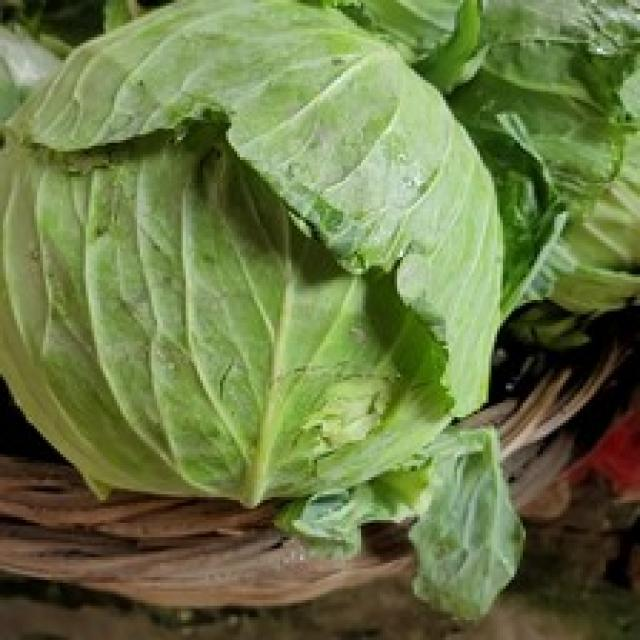organik: (0, 0, 523, 509)
